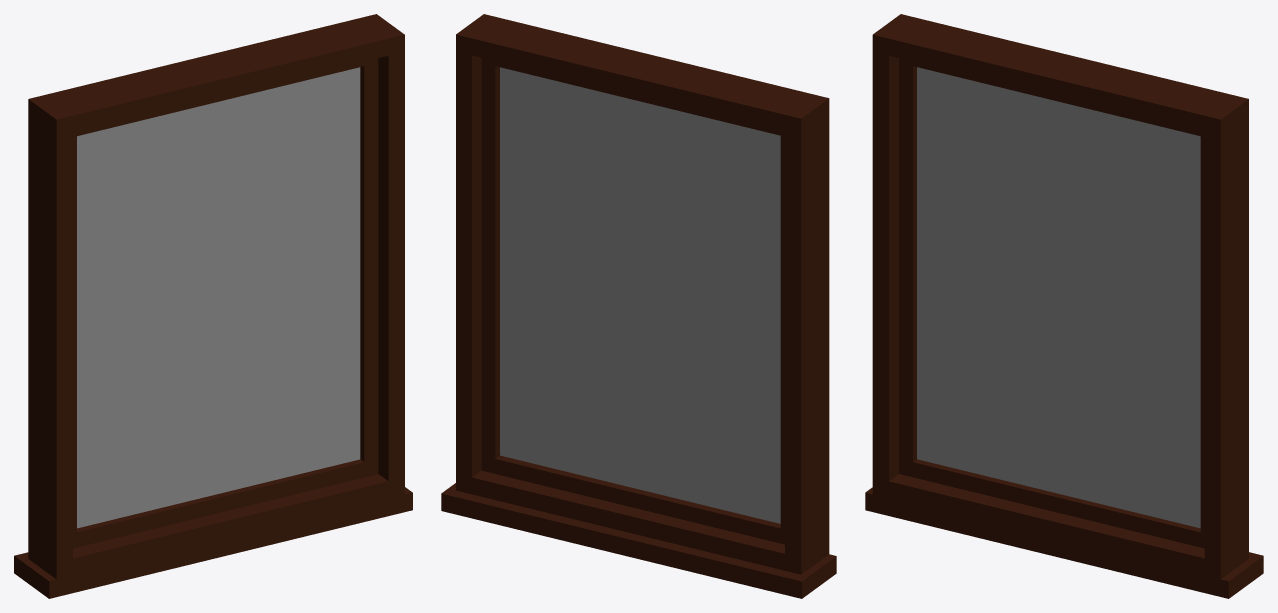
File: brokenWindow.dae
3 views of the same model, side by side, from view 1: azimuth 30°, elevation 25°; view 2: azimuth 150°, elevation 25°; view 3: azimuth 330°, elevation 25° (orthographic).
Parts seen in each view (by area): view 1: Glass_001, Window_001, Frame_001; view 2: Glass_001, Window_001, Frame_001; view 3: Glass_001, Window_001, Frame_001.
Boxes of the visible parts, x1,y1,x2,y2 form: Glass_001: (77, 67, 360, 528); Window_001: (28, 14, 404, 579); Frame_001: (14, 487, 412, 598); Glass_001: (500, 67, 780, 523); Window_001: (456, 14, 829, 574); Frame_001: (441, 483, 836, 598); Glass_001: (917, 67, 1200, 528); Window_001: (872, 14, 1248, 579); Frame_001: (865, 487, 1263, 598).
Size of the model in its own units: 1.59 by 2 by 0.2661.
